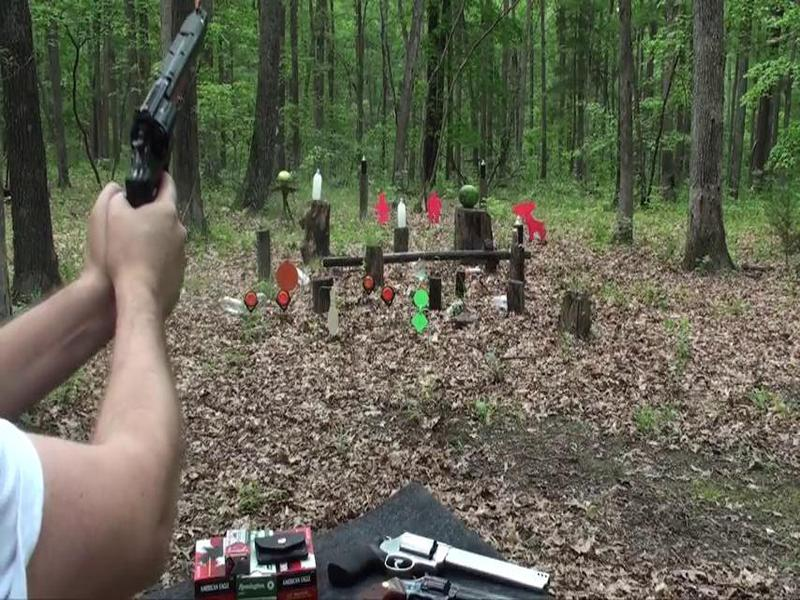Revolver: (101, 1, 235, 237)
